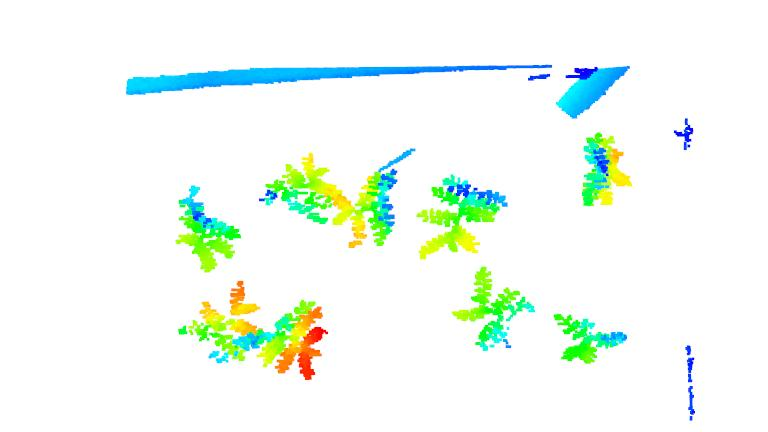chickpea: (255, 151, 395, 265), (411, 174, 509, 263), (174, 279, 259, 369), (452, 266, 534, 352), (173, 183, 244, 276), (261, 297, 329, 383), (577, 131, 636, 208), (550, 309, 628, 366)
